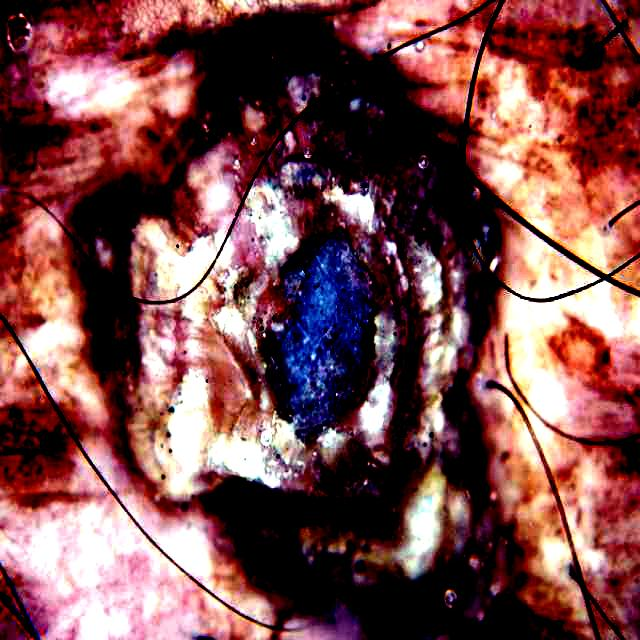AKIEC: (90, 9, 571, 636)
